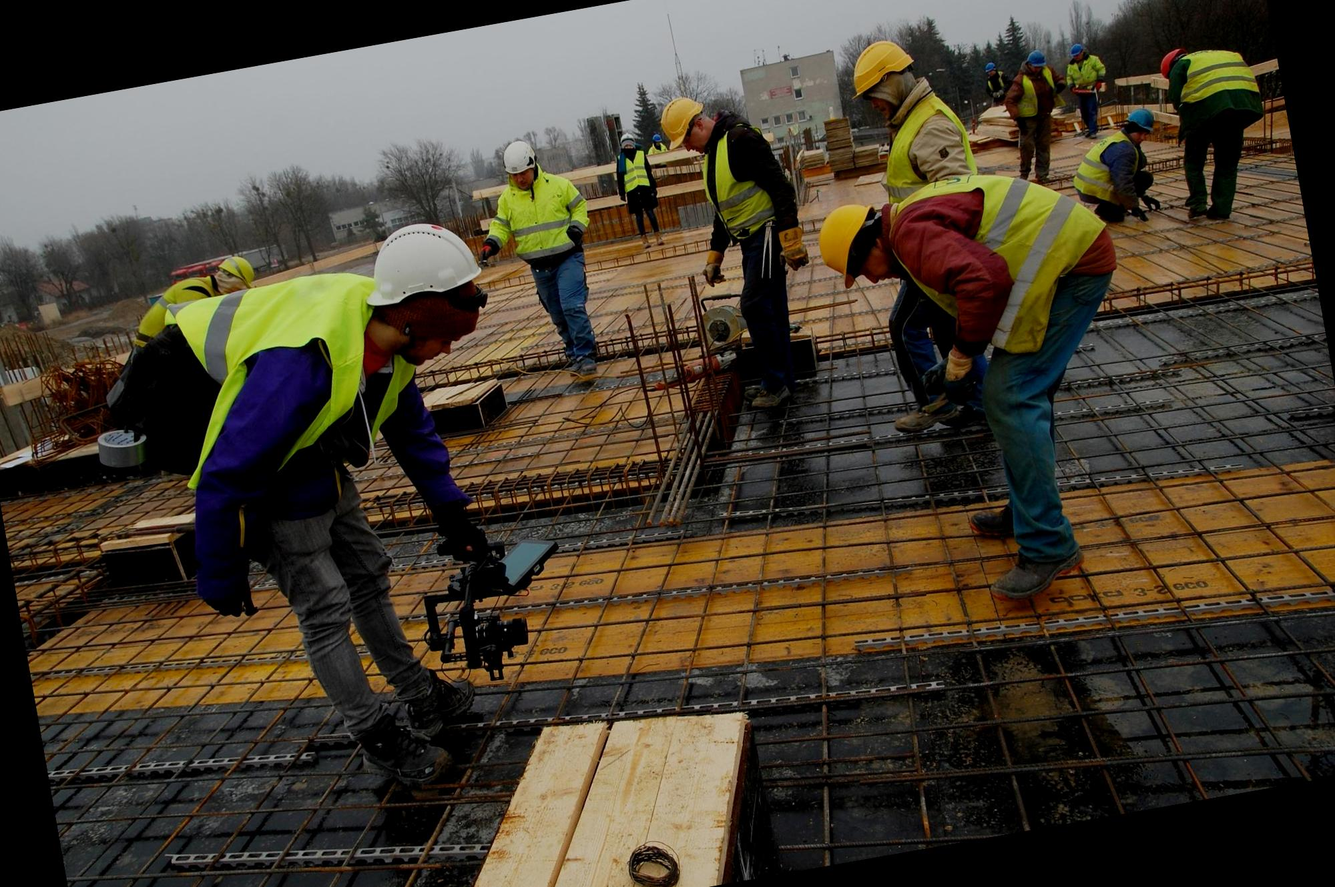helmet: (350, 219, 487, 315), (808, 197, 879, 280), (837, 27, 917, 89), (660, 93, 697, 141)
person: (132, 210, 586, 839), (801, 146, 1173, 635), (656, 72, 828, 420), (470, 131, 613, 412), (1142, 20, 1272, 224), (836, 11, 973, 201)
